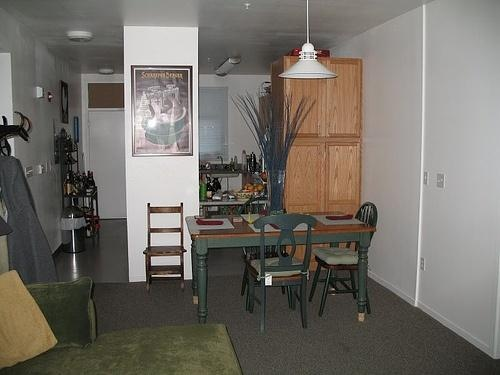chair: (246, 213, 319, 330), (315, 203, 380, 314), (143, 202, 187, 293)
diningtable: (185, 208, 373, 325)
sofa: (1, 273, 250, 375)
